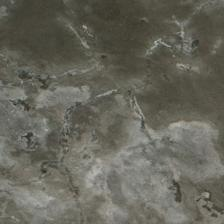Crack: (104, 21, 178, 140), (14, 33, 116, 59), (131, 37, 155, 111)
